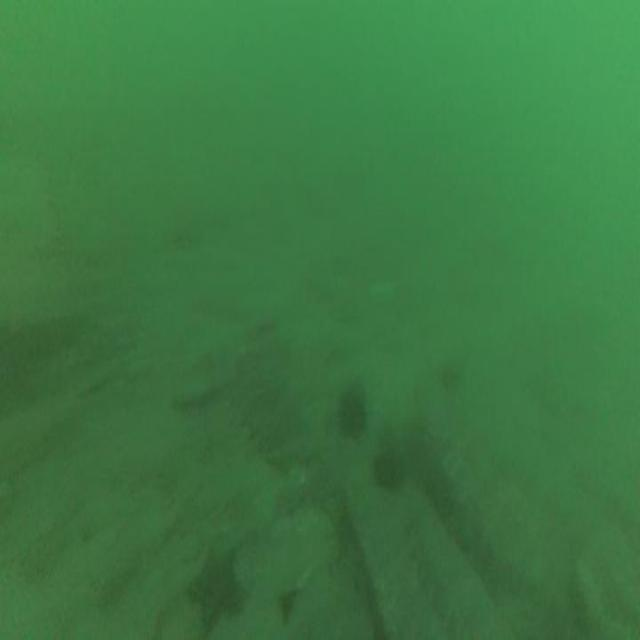echinus: (336, 392, 364, 439), (374, 449, 402, 488)
starfish: (188, 547, 241, 629)
